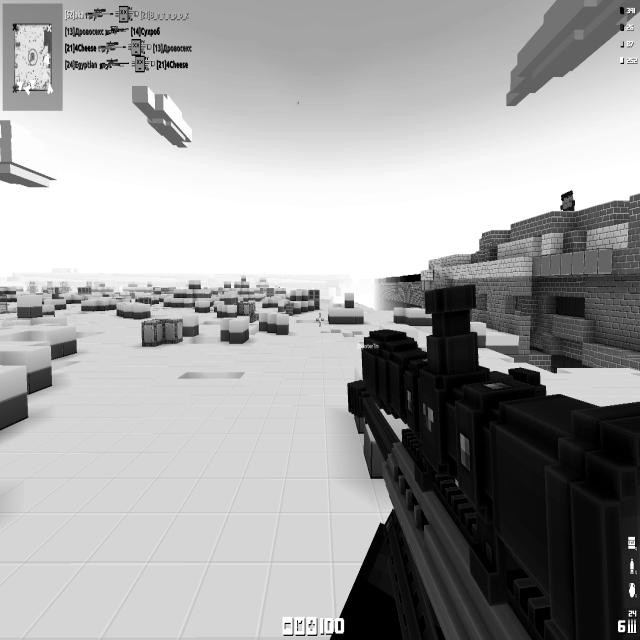Head: (561, 191, 574, 203)
Player: (560, 190, 575, 212)
